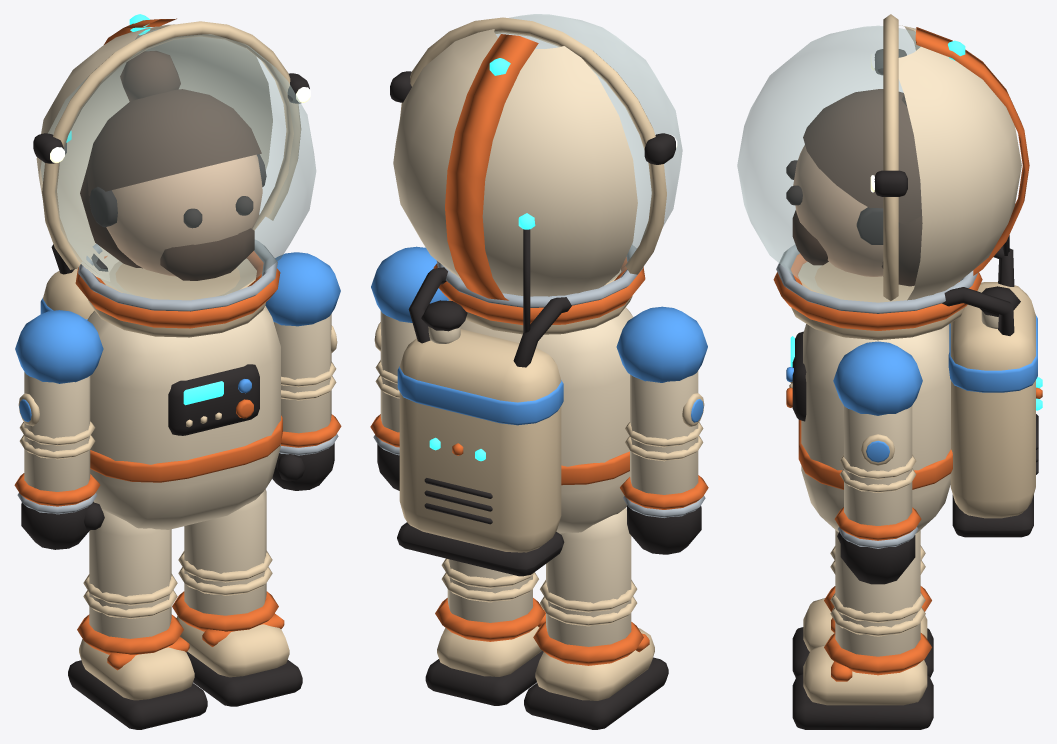
The model's file is elevate-1.glb.
3 renders of one model, left to right at view 1: azimuth 30°, elevation 25°; view 2: azimuth 150°, elevation 25°; view 3: azimuth 270°, elevation 25°, orthographic. The views are drawn at different scales.
Parts seen in each view (by area): view 1: body, leg_r, leg_l, arm_r, hair_bun, arm_l, beard, hair_full; view 2: body, leg_r, arm_r, leg_l, stripe, arm_l, aerial; view 3: body, leg_l, arm_l, hair_bun, stripe, leg_r, hair_full, beard.
Boxes of the visible parts, left/top/right/bottom form: body: left=33, top=14, right=316, bottom=529; leg_r: left=68, top=510, right=207, bottom=729; leg_l: left=172, top=489, right=302, bottom=706; arm_r: left=14, top=310, right=104, bottom=549; hair_bun: left=86, top=51, right=261, bottom=195; arm_l: left=265, top=252, right=341, bottom=490; beard: left=160, top=228, right=254, bottom=280; hair_full: left=80, top=170, right=142, bottom=268; body: left=390, top=14, right=682, bottom=576; leg_r: left=524, top=508, right=668, bottom=729; arm_r: left=616, top=306, right=708, bottom=554; leg_l: left=425, top=558, right=545, bottom=705; stripe: left=445, top=34, right=538, bottom=300; arm_l: left=370, top=246, right=448, bottom=490; aerial: left=518, top=213, right=535, bottom=332; body: left=737, top=14, right=1042, bottom=537; leg_l: left=792, top=531, right=933, bottom=729; arm_l: left=833, top=341, right=922, bottom=584; hair_bun: left=803, top=89, right=921, bottom=226; stripe: left=915, top=27, right=1029, bottom=275; leg_r: left=792, top=530, right=933, bottom=677; hair_full: left=881, top=216, right=922, bottom=286; beard: left=792, top=210, right=828, bottom=265.
Bounding box in the file's own units: 0.864 × 1.72 × 0.7159.
